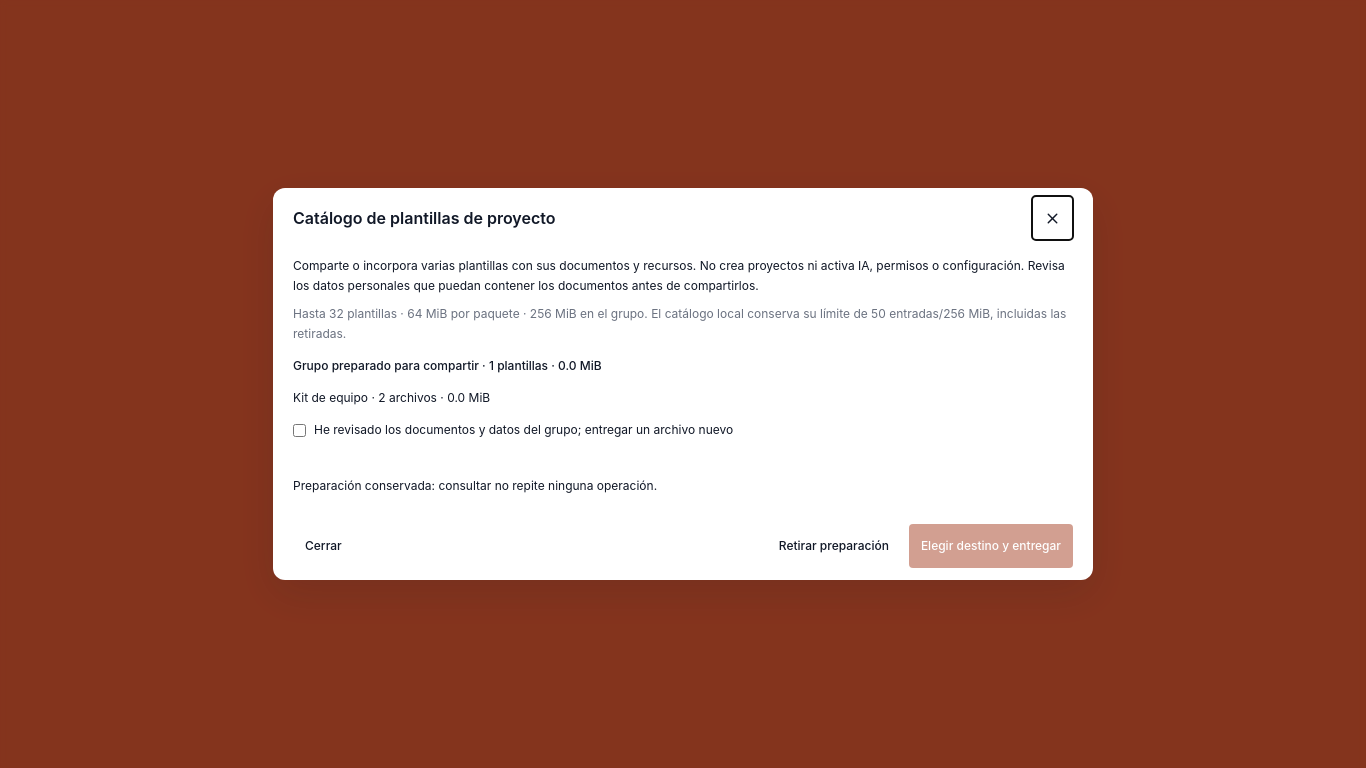
Test: does not repeat a native delivery after uncertain confirmation
The width and height of the screenshot is (1366, 768).
Click the checkbox labelled "He revisado los documentos" at (300, 430), box [293, 424, 306, 437]
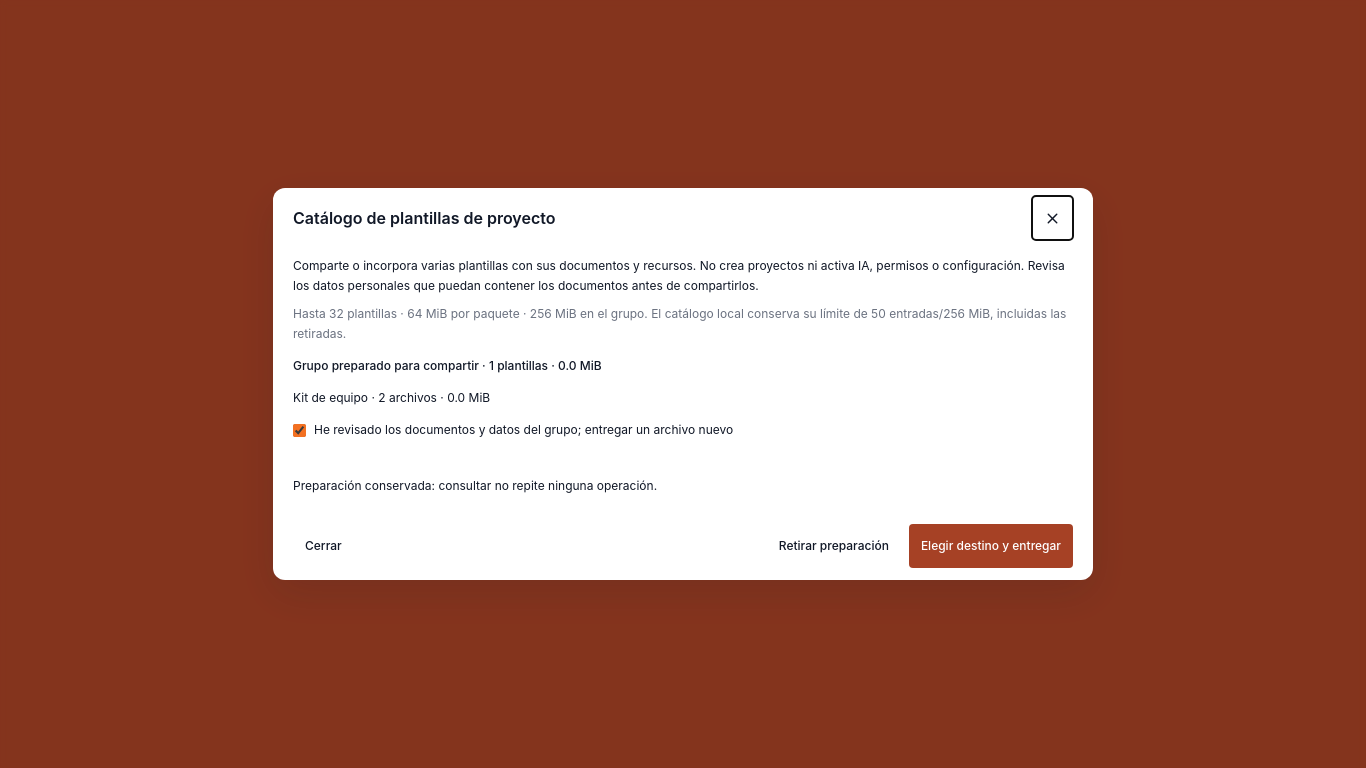
Click the button "Elegir destino y entregar" at (991, 546), box [909, 524, 1073, 568]
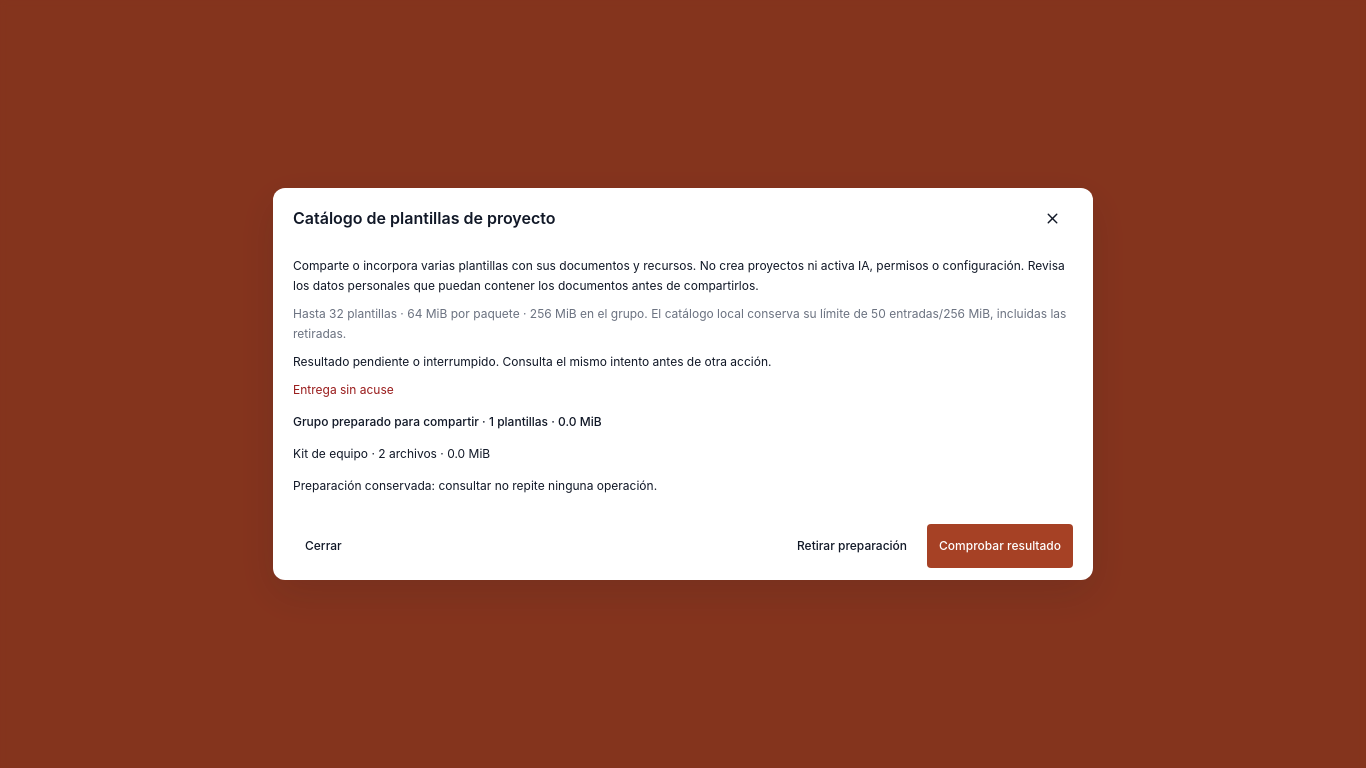
expect the message "Entrega sin acuse" is shown: met, box [293, 382, 394, 397]
Click the button "Comprobar resultado" at (1000, 546), box [927, 524, 1073, 568]
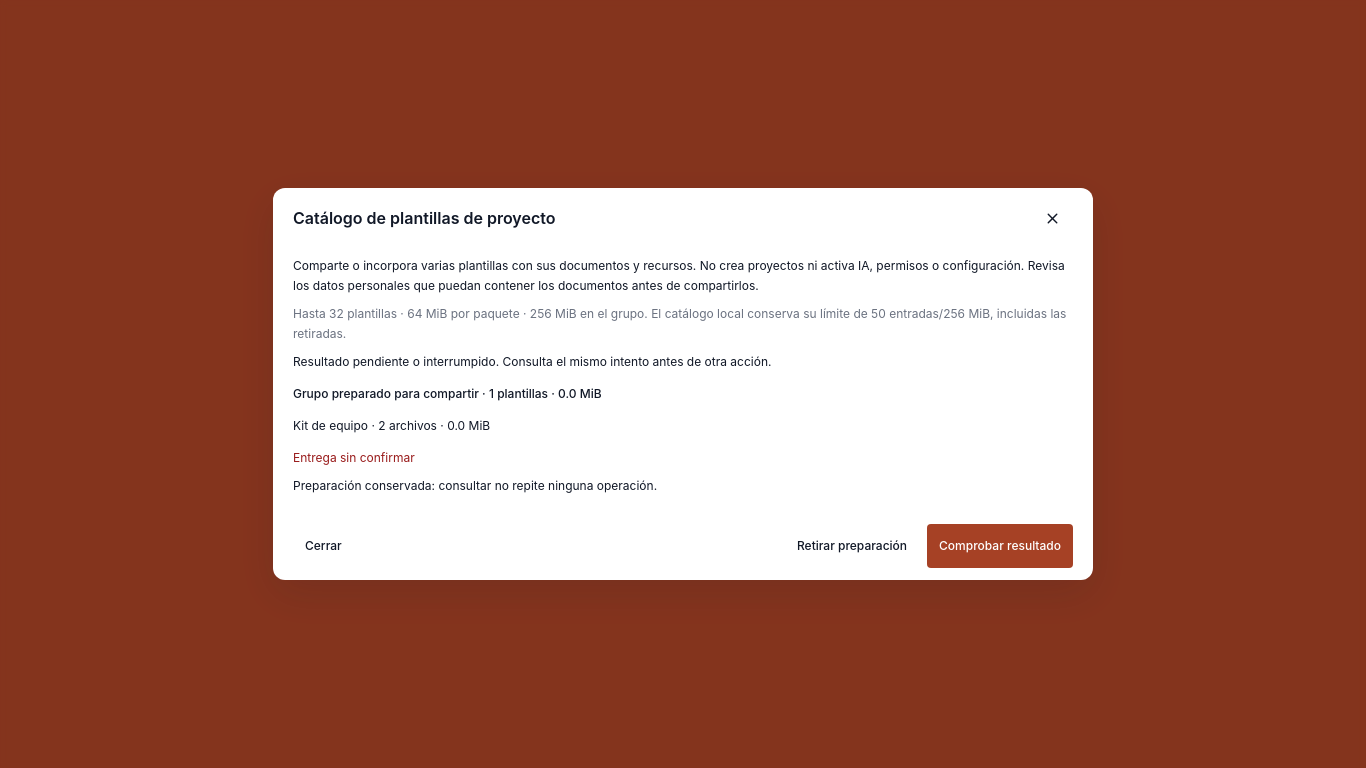
expect the button "Elegir destino y entregar" is not shown: met
expect the text "Entrega sin confirmar" is shown: met, box [293, 450, 415, 465]
